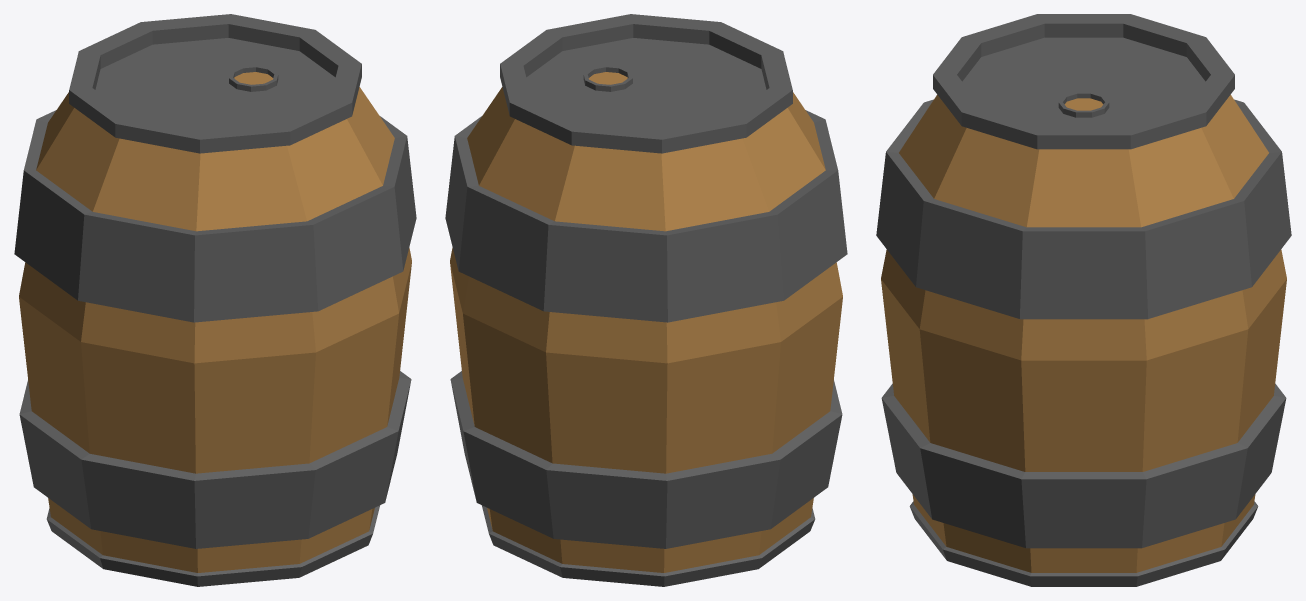
File: tonn.fbx
3 renders of one model, left to right at view 1: azimuth 30°, elevation 25°; view 2: azimuth 150°, elevation 25°; view 3: azimuth 270°, elevation 25°, orthographic.
Parts seen in each view (by area): view 1: Houtenton; view 2: Houtenton; view 3: Houtenton.
Part boxes in pixels (<box>): Houtenton: <box>14,14,416,586</box>; Houtenton: <box>445,14,847,586</box>; Houtenton: <box>876,14,1291,586</box>.
Size of the model in its own units: 0.9673 by 1.2 by 1.02.
